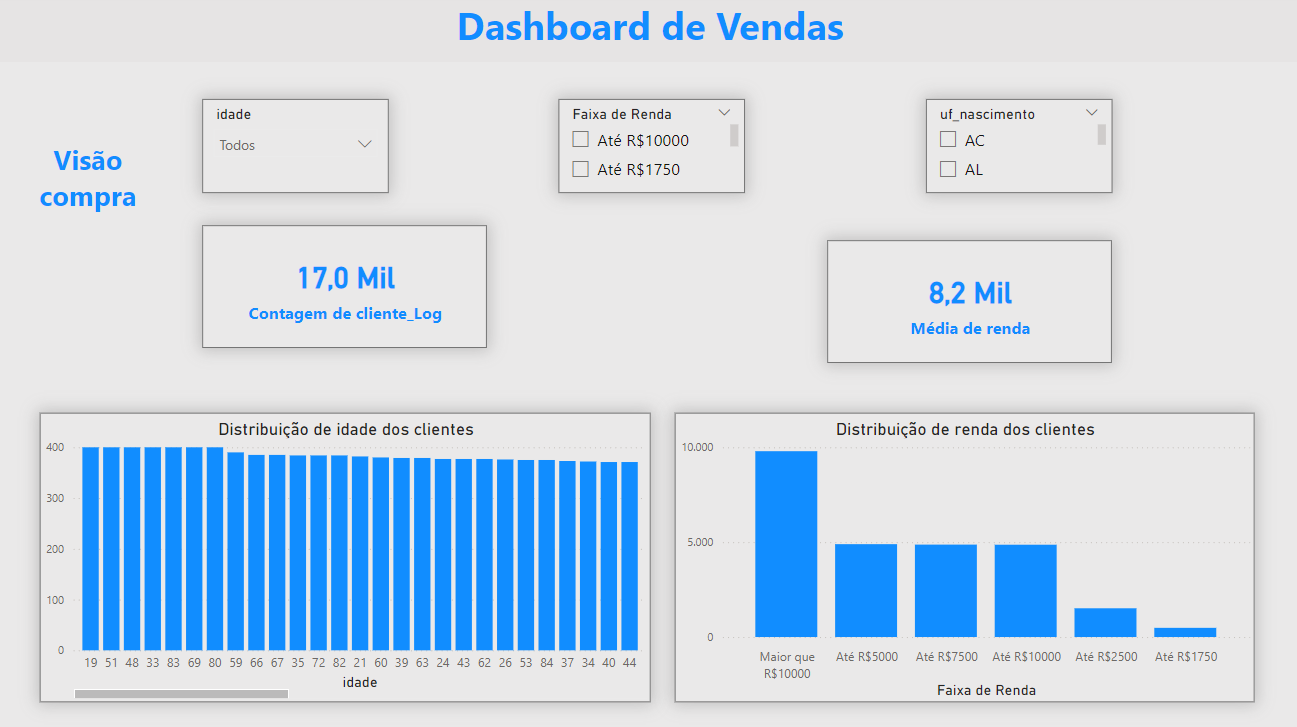

The page's visual inventory and layout, read from the dashboard file:
{"tool":"powerbi","page":{"name":"Visão de Compra","canvas":[1280,720],"ordinal":1},"visuals":[{"type":"card","fields":{"Values":["Count(Base cliente.cliente_Log)"]},"box":[201.7,226.1,278.7,119.8],"z":0},{"type":"card","fields":{"Values":["Avg(Base cliente.renda)"]},"box":[812.9,240.8,278.7,119.8],"z":1000},{"type":"columnChart","title":"Distribuição de idade dos clientes","fields":{"Category":["Base cliente.idade"],"Y":["Count(Base cliente.cliente_Log)"]},"box":[42.8,409.5,597.8,283.6],"z":2000},{"type":"columnChart","title":"Distribuição de renda dos clientes","fields":{"Y":["CountNonNull(Base cliente.cliente_Log)"],"Category":["Base cliente.Faixa de Renda"]},"box":[663.8,409.5,567.2,283.6],"z":3000},{"type":"slicer","fields":{"Values":["Base cliente.idade"]},"box":[201.7,102.7,182.1,91.7],"z":4000},{"type":"slicer","fields":{"Values":["Base cliente.Faixa de Renda"]},"box":[550.1,102.7,182.1,91.7],"z":5000},{"type":"slicer","fields":{"Values":["Base cliente.uf_nascimento"]},"box":[909.5,102.7,182.1,91.7],"z":6000},{"type":"textbox","box":[0,0,1279.9,66],"z":7000},{"type":"textbox","box":[0,138.1,179.7,88],"z":7001}]}

Visuals, with their boxes in screenshot pixels (x1, y1, x2, y2), scaled from the page's 1280x720 canvas onto the 1297x727 screenshot:
card - Count(Base cliente.cliente_Log): {"x1": 204, "y1": 228, "x2": 487, "y2": 349}
card - Avg(Base cliente.renda): {"x1": 824, "y1": 243, "x2": 1106, "y2": 364}
"Distribuição de idade dos clientes" columnChart: {"x1": 43, "y1": 413, "x2": 649, "y2": 700}
"Distribuição de renda dos clientes" columnChart: {"x1": 673, "y1": 413, "x2": 1247, "y2": 700}
slicer - Base cliente.idade: {"x1": 204, "y1": 104, "x2": 389, "y2": 196}
slicer - Base cliente.Faixa de Renda: {"x1": 557, "y1": 104, "x2": 742, "y2": 196}
slicer - Base cliente.uf_nascimento: {"x1": 922, "y1": 104, "x2": 1106, "y2": 196}
textbox: {"x1": 0, "y1": 0, "x2": 1296, "y2": 67}
textbox: {"x1": 0, "y1": 139, "x2": 182, "y2": 228}
